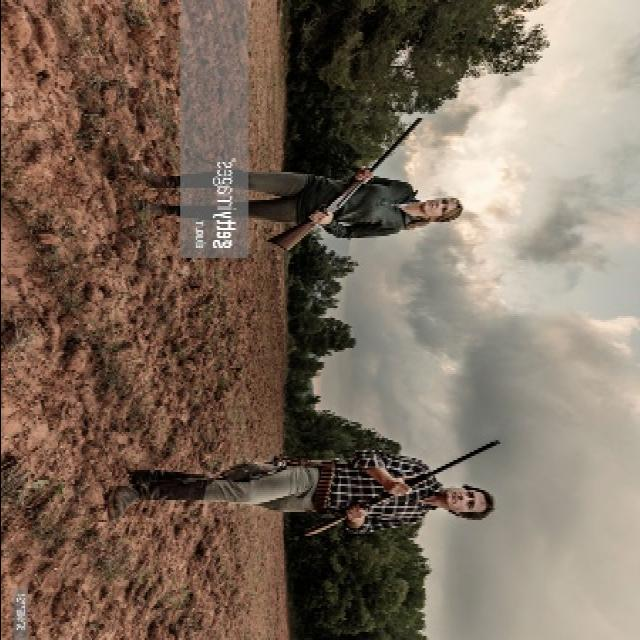rifle: (300, 431, 510, 553), (271, 119, 431, 257)
